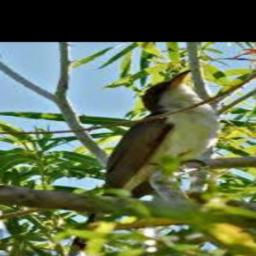Cuckoo: (66, 70, 220, 256)
